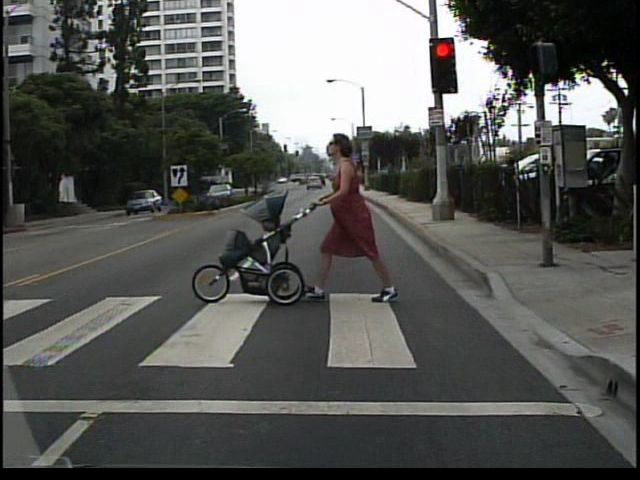person: (314, 131, 407, 305)
